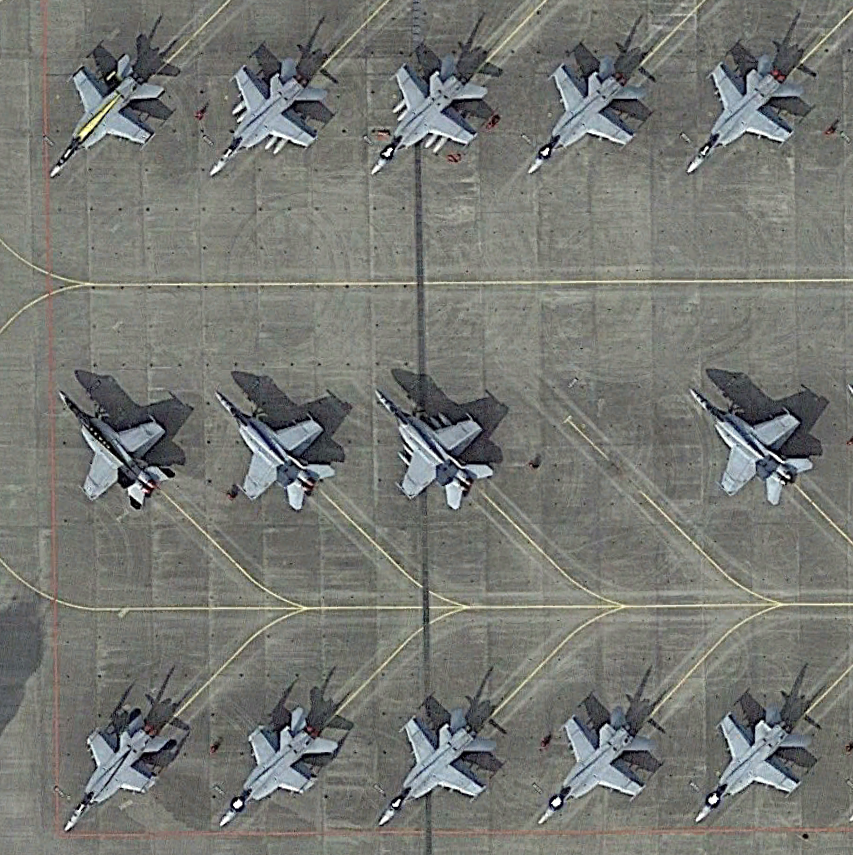A16: (38, 48, 169, 180), (197, 46, 328, 178), (359, 44, 490, 176), (515, 49, 646, 181), (671, 52, 802, 184), (45, 380, 176, 512), (205, 380, 336, 512), (371, 380, 502, 512), (687, 377, 818, 509), (47, 704, 178, 836), (211, 700, 342, 832), (369, 699, 500, 831), (524, 699, 655, 831), (683, 701, 814, 833)
